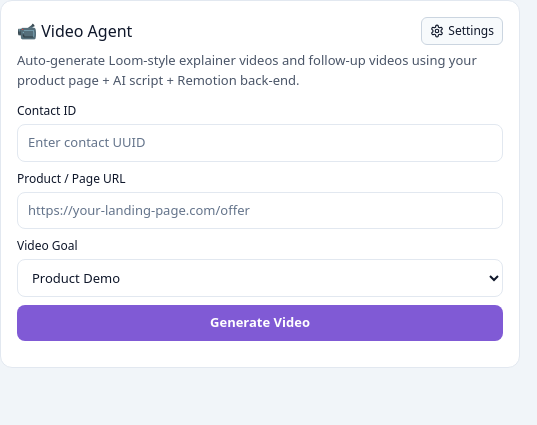
Test: VideoAgentPanel › Form Validation › should show error when contact ID is empty
In the field with placeholder "https://your-landing-page.com/offer": (260, 210) [17, 192, 503, 229], type "https://example.com"
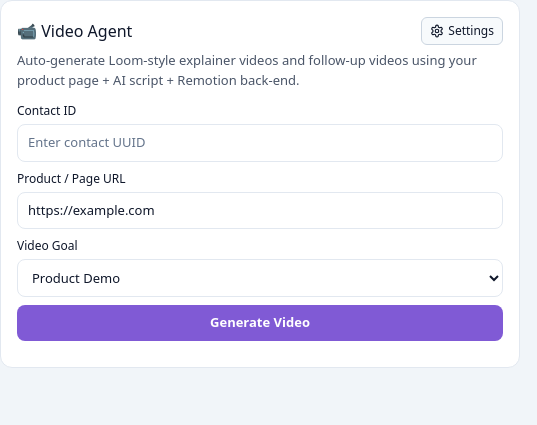
Click the button "Generate Video": (260, 323) [17, 305, 503, 340]
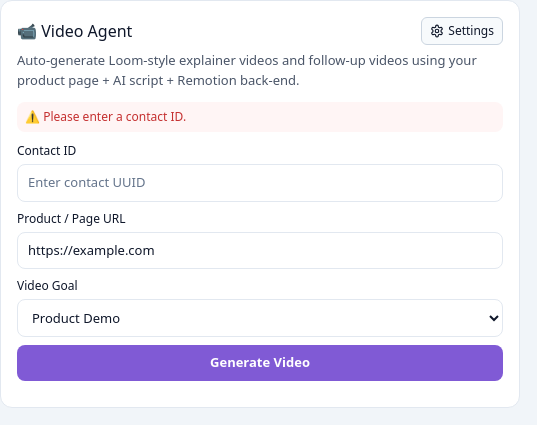
Now the text "⚠️ Please enter a contact ID." is shown, box [17, 102, 503, 132]
